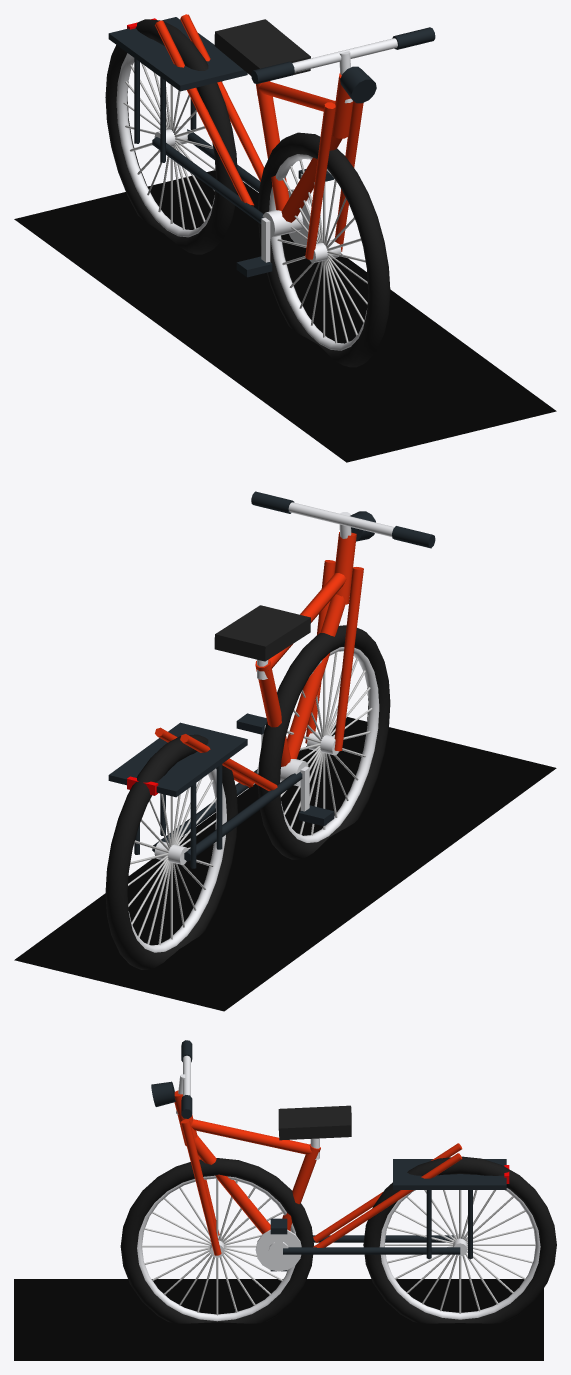
Rendered from delivery-bicycle.glb.
3 views of the same model, one above another, from view 1: azimuth 30°, elevation 25°; view 2: azimuth 150°, elevation 25°; view 3: azimuth 270°, elevation 25° (orthographic). The views are drawn at different scales.
Visible parts, largest first — view 1: vehicle-contact-shadow, vehicle-body-batch (×10), bicycle-front-wheel, bicycle-rear-wheel, bicycle-frame, bicycle-crank-group, bicycle-steer-group; view 2: vehicle-contact-shadow, vehicle-body-batch (×9), bicycle-rear-wheel, bicycle-front-wheel, bicycle-frame, bicycle-crank-group; view 3: vehicle-contact-shadow, vehicle-body-batch (×9), bicycle-front-wheel, bicycle-rear-wheel, bicycle-frame, bicycle-crank-group, bicycle-steer-group.
Part boxes in pixels (<box>): vehicle-contact-shadow: <box>14,170,556,462</box>; vehicle-body-batch (×10): <box>108,14,435,350</box>; bicycle-front-wheel: <box>258,132,390,367</box>; bicycle-rear-wheel: <box>105,19,237,254</box>; bicycle-frame: <box>127,18,310,75</box>; bicycle-crank-group: <box>236,169,334,277</box>; bicycle-steer-group: <box>340,66,376,103</box>; vehicle-contact-shadow: <box>14,717,556,1011</box>; vehicle-body-batch (×9): <box>108,491,435,952</box>; bicycle-rear-wheel: <box>105,734,237,969</box>; bicycle-front-wheel: <box>258,625,390,859</box>; bicycle-frame: <box>127,605,310,795</box>; bicycle-crank-group: <box>236,713,334,826</box>; vehicle-contact-shadow: <box>14,1279,543,1360</box>; vehicle-body-batch (×9): <box>137,1040,540,1321</box>; bicycle-front-wheel: <box>120,1158,313,1323</box>; bicycle-rear-wheel: <box>363,1156,556,1323</box>; bicycle-frame: <box>278,1105,509,1183</box>; bicycle-crank-group: <box>255,1218,301,1271</box>; bicycle-steer-group: <box>151,1081,175,1106</box>.
Size of the model in its own units: 0.7475 by 1.11 by 2.1.
9 materials, 1 textured.
